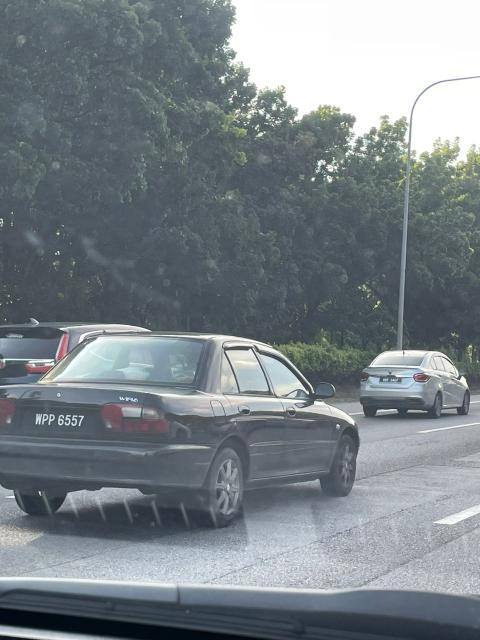License_Plate: (27, 408, 94, 438)
car: (2, 324, 357, 523)
